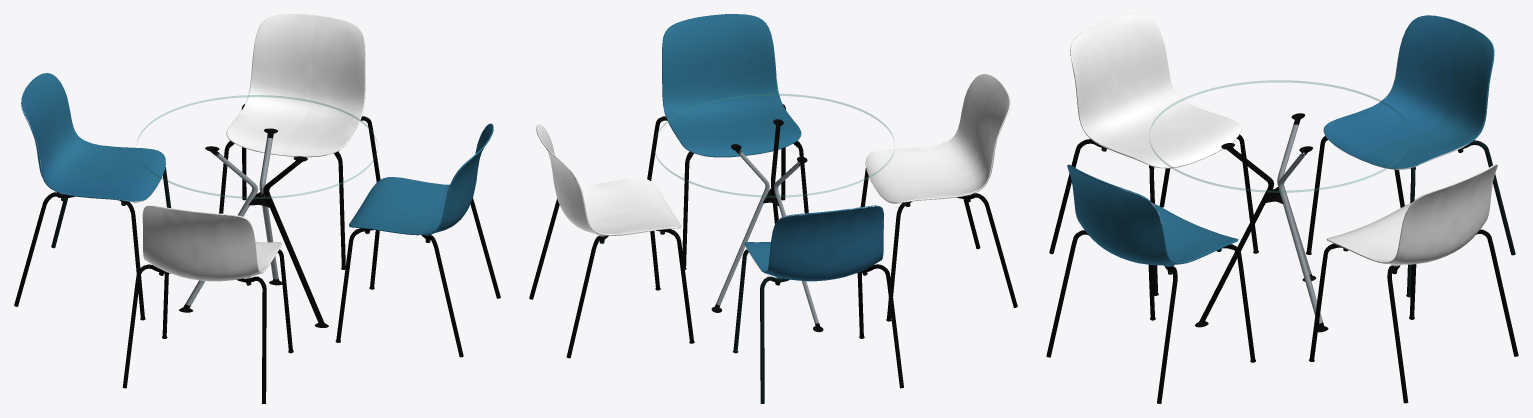
File: desk.glb
The picture shows the model from 3 angles, left to right: view 1: azimuth 30°, elevation 25°; view 2: azimuth 150°, elevation 25°; view 3: azimuth 270°, elevation 25°; orthographic projection. The views are drawn at different scales.
Visible parts, largest first — view 1: Group18.33, Group9.22, Group22.38, Group13.27, G_72SEX_MT_D3_GESTELL_334_1.10, Group4.5; view 2: Group13.27, Group22.38, Group9.22, Group18.33, G_72SEX_MT_D3_GESTELL_334_1.10, Group4.5; view 3: Group9.22, Group22.38, Group13.27, Group18.33, G_72SEX_MT_D3_GESTELL_334_1.10, Group4.5.
Boxes of the visible parts, left/top/right/bottom form: Group18.33: left=219, top=14, right=380, bottom=269; Group9.22: left=14, top=73, right=171, bottom=320; Group22.38: left=122, top=205, right=293, bottom=403; Group13.27: left=335, top=123, right=500, bottom=357; G_72SEX_MT_D3_GESTELL_334_1.10: left=185, top=137, right=322, bottom=320; Group4.5: left=137, top=95, right=376, bottom=198; Group13.27: left=647, top=14, right=808, bottom=269; Group22.38: left=860, top=74, right=1017, bottom=321; Group9.22: left=733, top=205, right=903, bottom=403; Group18.33: left=529, top=124, right=694, bottom=358; G_72SEX_MT_D3_GESTELL_334_1.10: left=716, top=130, right=818, bottom=323; Group4.5: left=654, top=94, right=893, bottom=197; Group9.22: left=1306, top=15, right=1515, bottom=297; Group22.38: left=1049, top=14, right=1258, bottom=295; Group13.27: left=1046, top=164, right=1255, bottom=403; Group18.33: left=1309, top=164, right=1518, bottom=403; G_72SEX_MT_D3_GESTELL_334_1.10: left=1201, top=124, right=1322, bottom=323; Group4.5: left=1150, top=80, right=1409, bottom=192.
Size of what is drawn, in the model's own units: 64.93 by 31.66 by 65.09.
